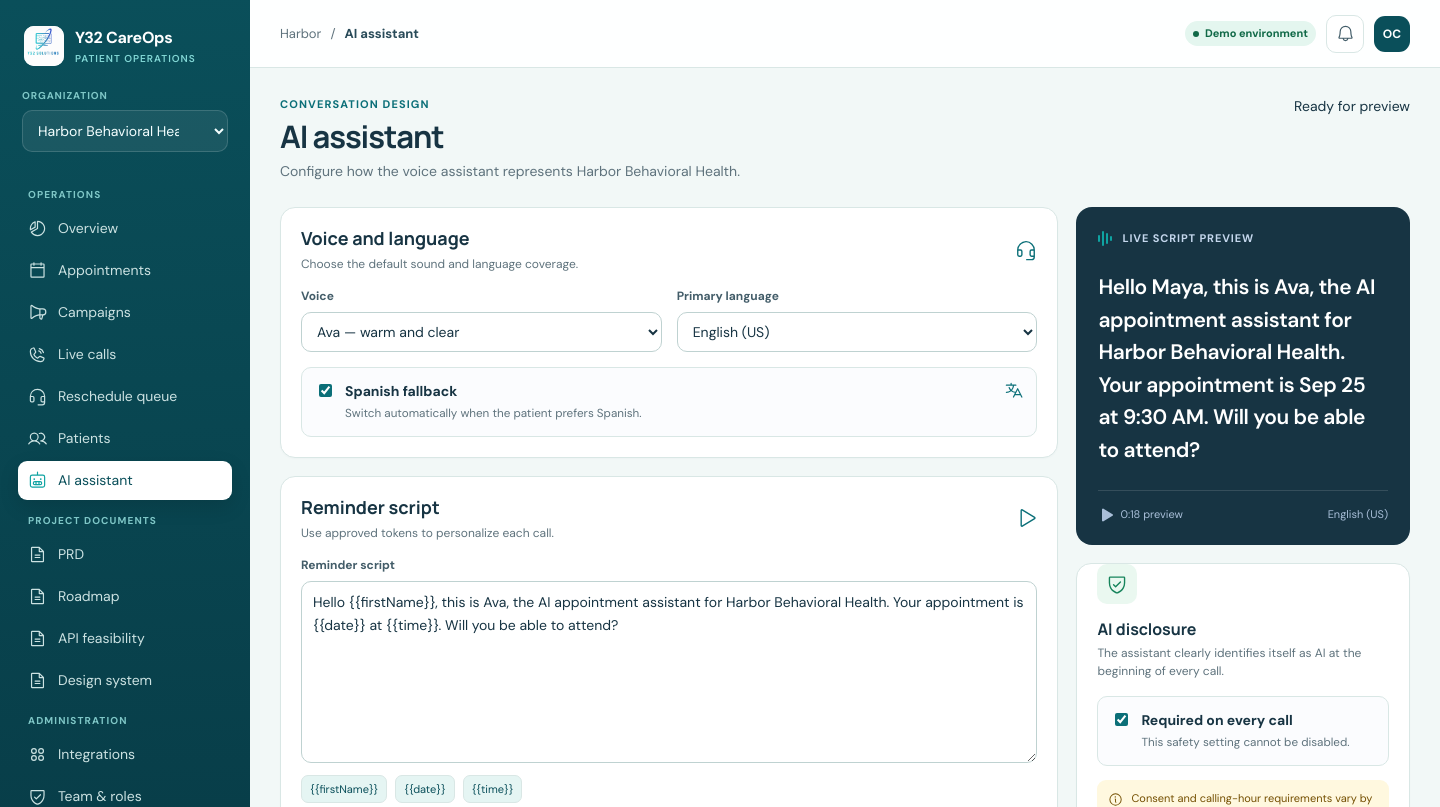
Test: AssistantPage › uses the active tenant and one of its patients in the live preview
Select "Northstar Family Care" in the dropdown labelled "Organization" at (125, 131), box [22,110,228,152]
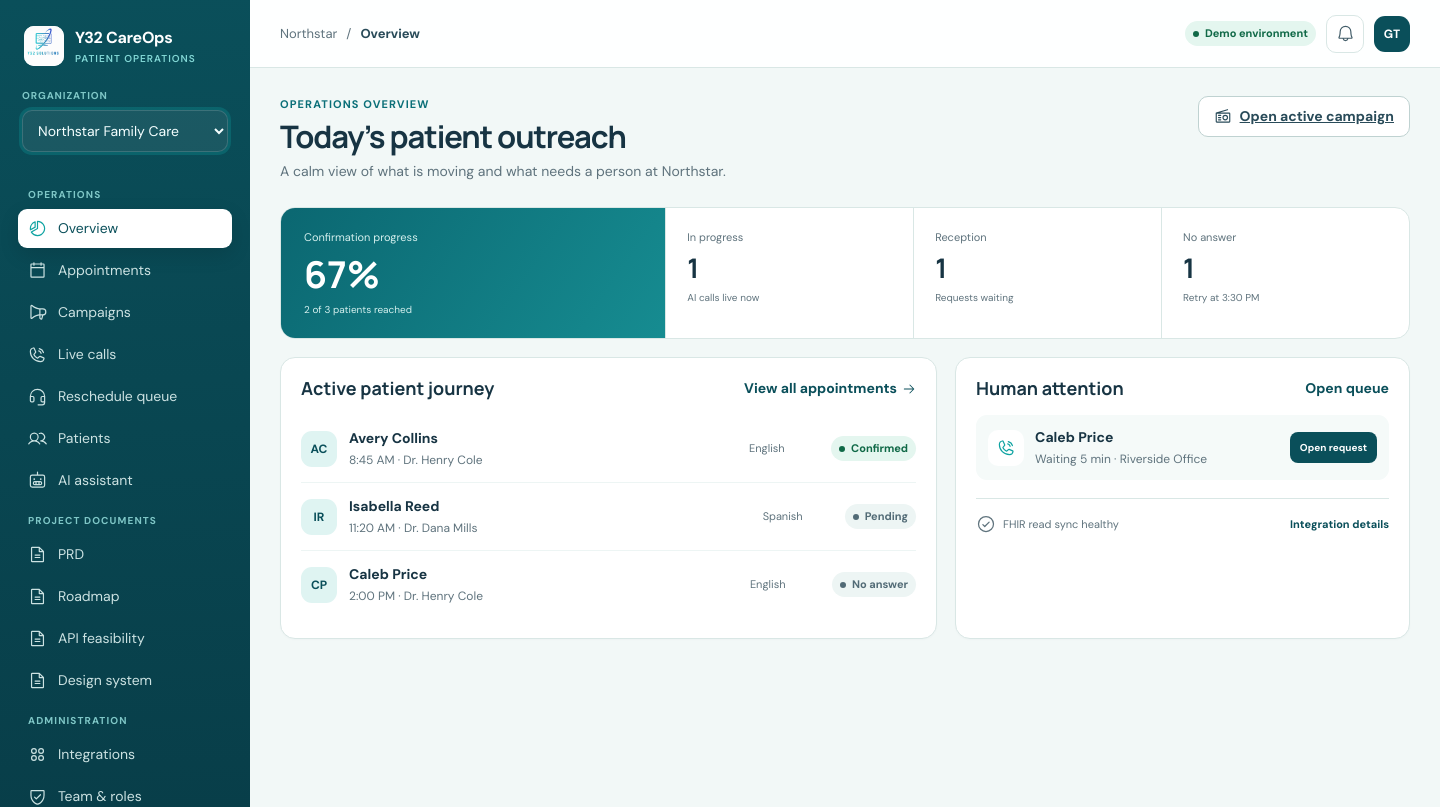
Click the link "AI assistant" at (80, 480), box [28,471,133,490]
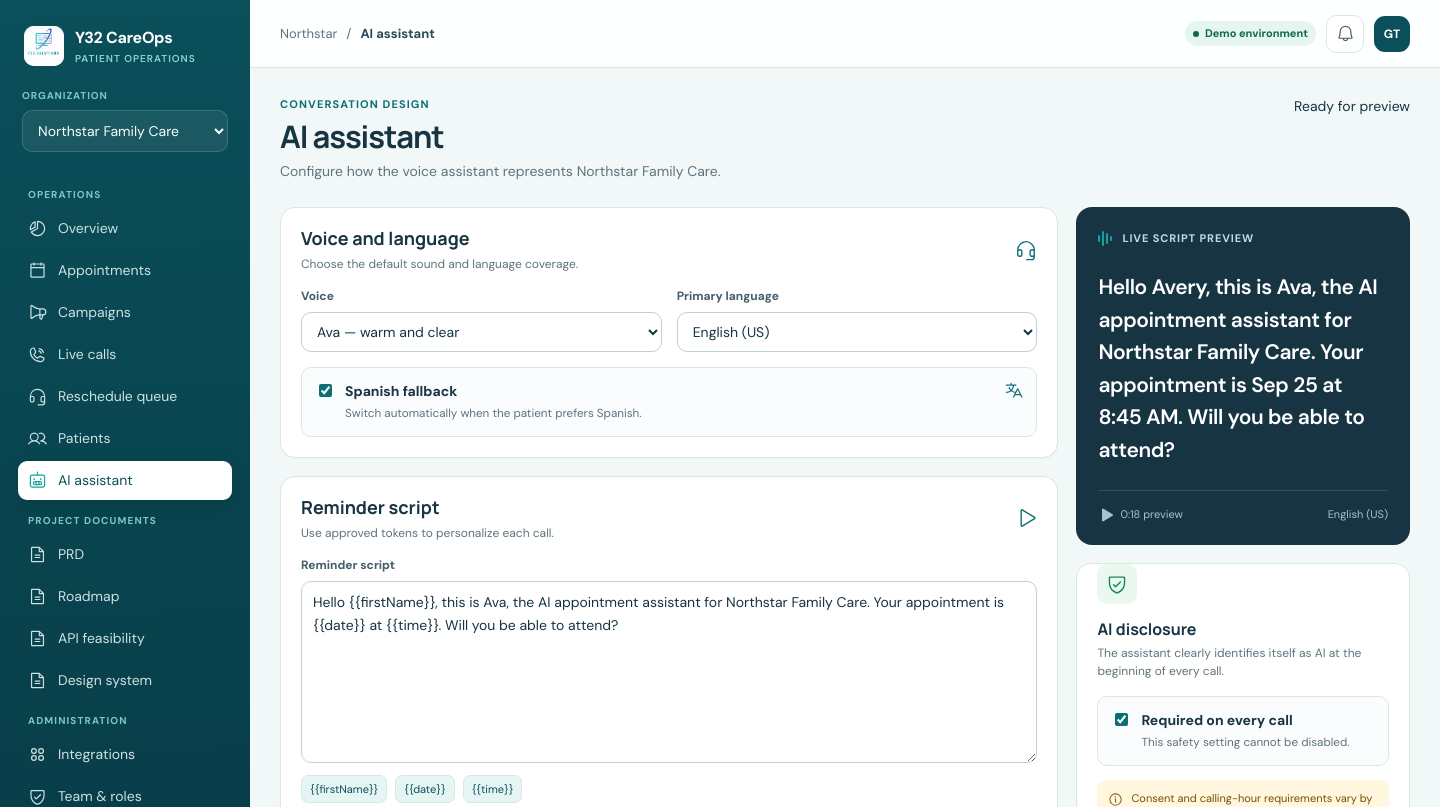
expect the text "Hello Maya" is not shown: met
expect the text "Hello Avery, this is Ava, the AI appointment assistant for Northstar Family Care" is shown: met, box [1098,273,1377,464]
